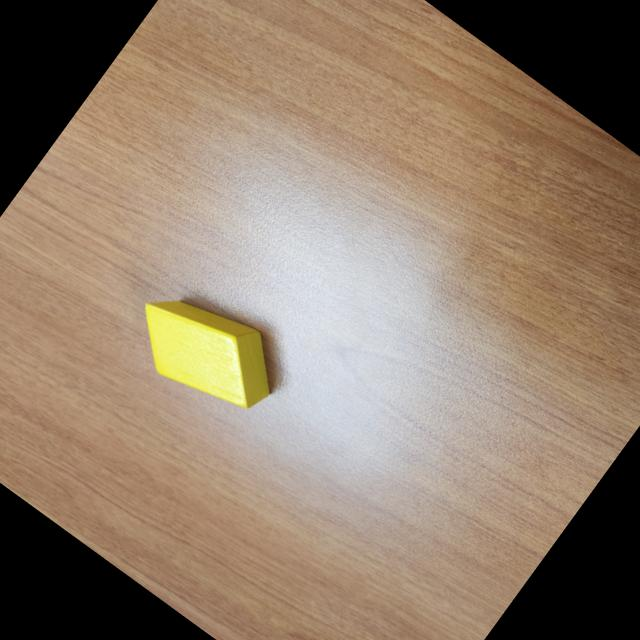yellow: (115, 266, 297, 434)
